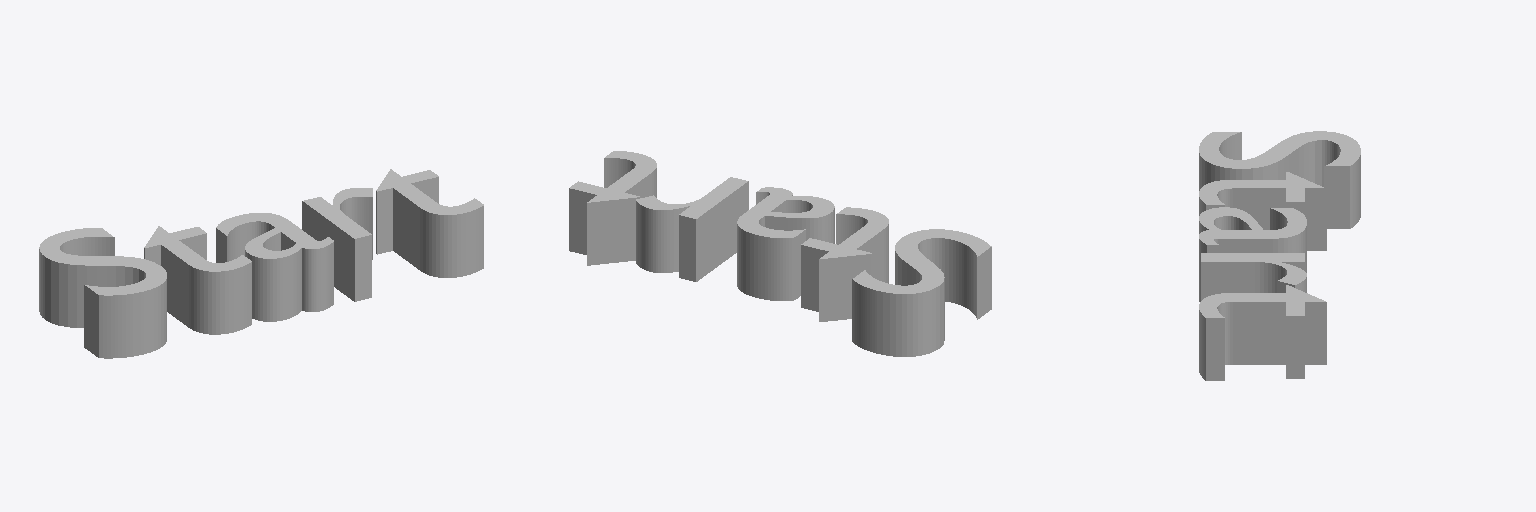
Rendered from Start Text.obj.
The picture shows the model from 3 angles: view 1: azimuth 30°, elevation 25°; view 2: azimuth 150°, elevation 25°; view 3: azimuth 270°, elevation 25°; orthographic projection.
Visible parts, largest first — view 1: Start; view 2: Start; view 3: Start.
Boxes of the visible parts, x1=… form: Start: x1=39, y1=169, x2=483, y2=358; Start: x1=569, y1=151, x2=991, y2=356; Start: x1=1199, y1=131, x2=1360, y2=380.
Bounding box in the file's own units: 1.91 × 0.3 × 0.7.